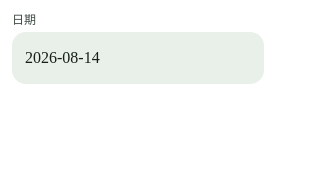
Scenario: DateField › on native it is a text box that rejects a day past `max`
The image size is (332, 172).
Replace the text in the field with test id "date" with "2026-09-20": (125, 58) [25,49,225,67]
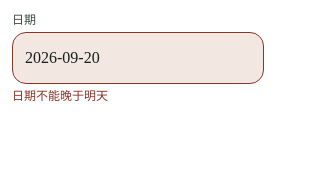
Check: the text "日期不能晚于明天" is shown, box [12,89,108,103]
Replace the text in the field with test id "date" with "2026-09-01": (125, 58) [25,49,225,67]
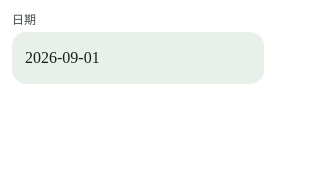
Check: the text "日期不能晚于明天" is gone
